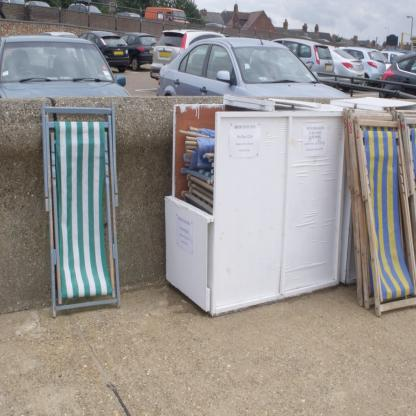Car: (0, 1, 416, 103)
